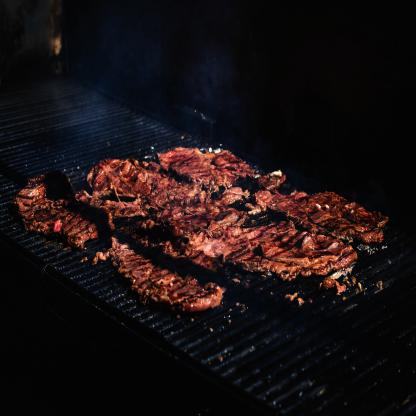Carne: (104, 239, 207, 317), (14, 176, 104, 253), (288, 183, 386, 244), (230, 229, 356, 273), (72, 161, 188, 208), (150, 184, 236, 229), (163, 146, 236, 186)
